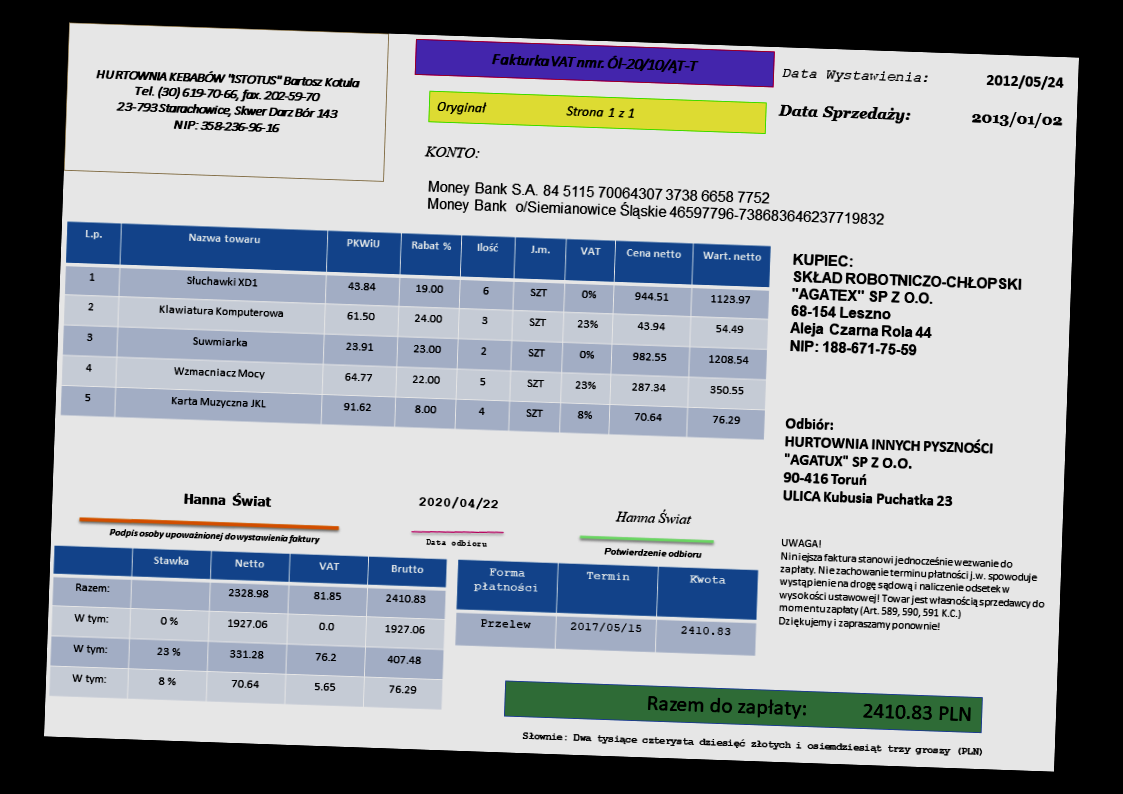Table: (59, 219, 774, 442), (46, 542, 450, 712), (453, 557, 759, 658)
TextBox: (774, 533, 1049, 638), (786, 248, 1024, 363), (424, 173, 888, 229), (780, 413, 996, 512), (91, 65, 362, 140), (520, 727, 985, 761), (644, 689, 975, 727), (433, 96, 638, 124), (487, 50, 703, 75), (107, 524, 325, 546), (777, 100, 913, 128), (778, 65, 931, 87), (970, 108, 1068, 132), (179, 488, 275, 510), (415, 491, 502, 515), (982, 70, 1068, 93), (613, 506, 695, 528), (600, 544, 704, 561), (422, 140, 483, 162), (423, 534, 490, 549)
